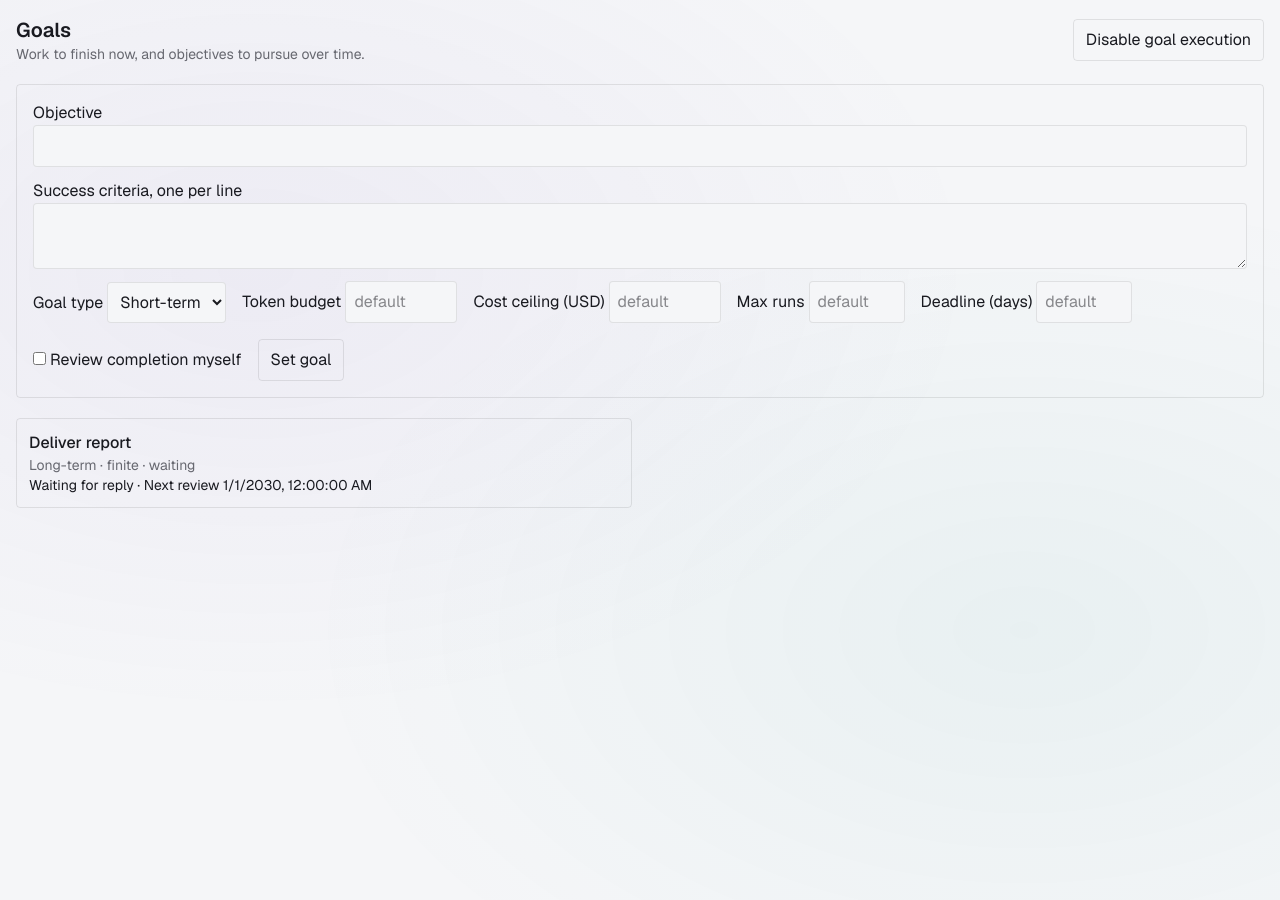
Scenario: GoalsView › surfaces stale update errors instead of claiming success
Click the button "Deliver report".
click(80, 442)  # box [16,418,632,508]
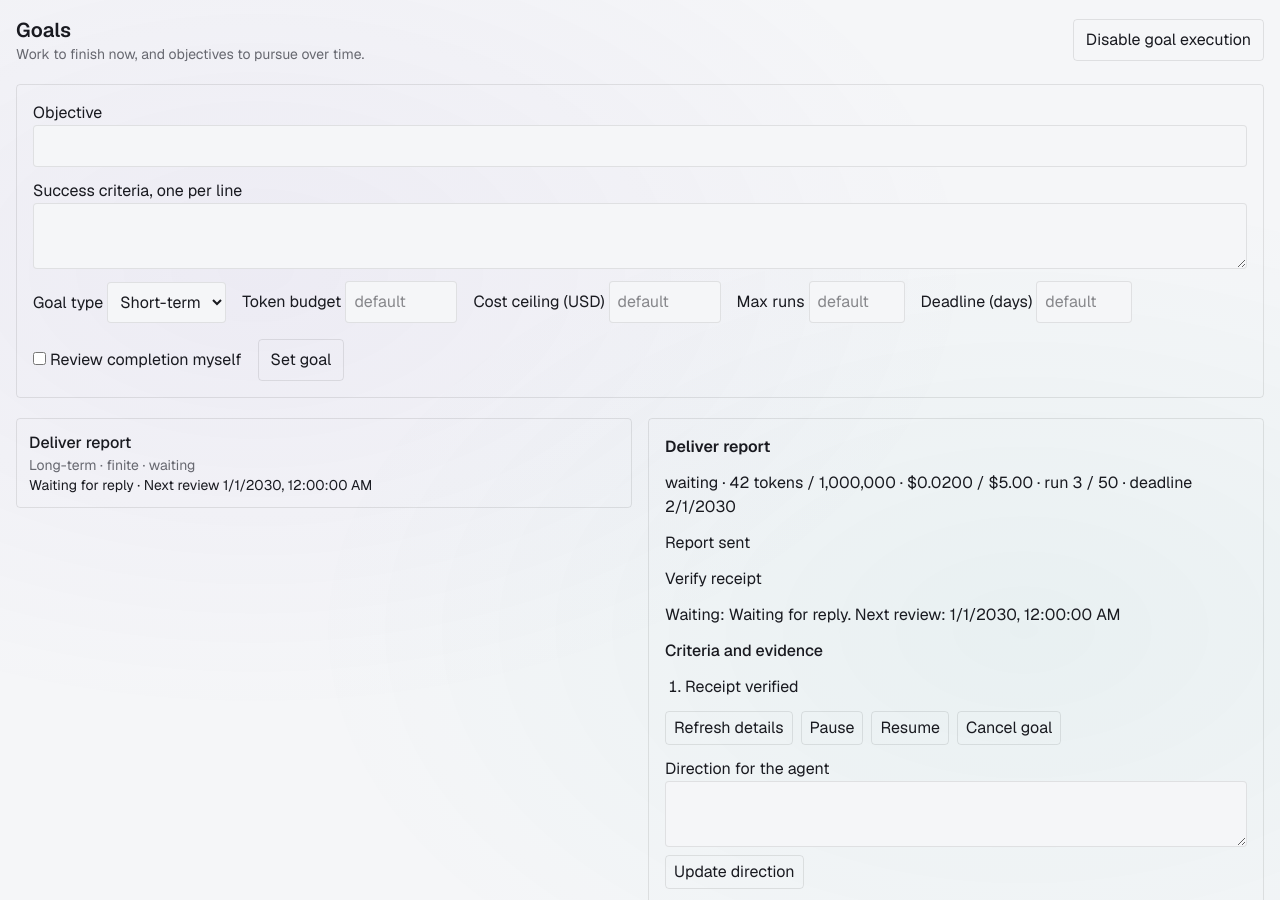
Click the button "Pause".
click(832, 728)  # box [800,711,863,745]
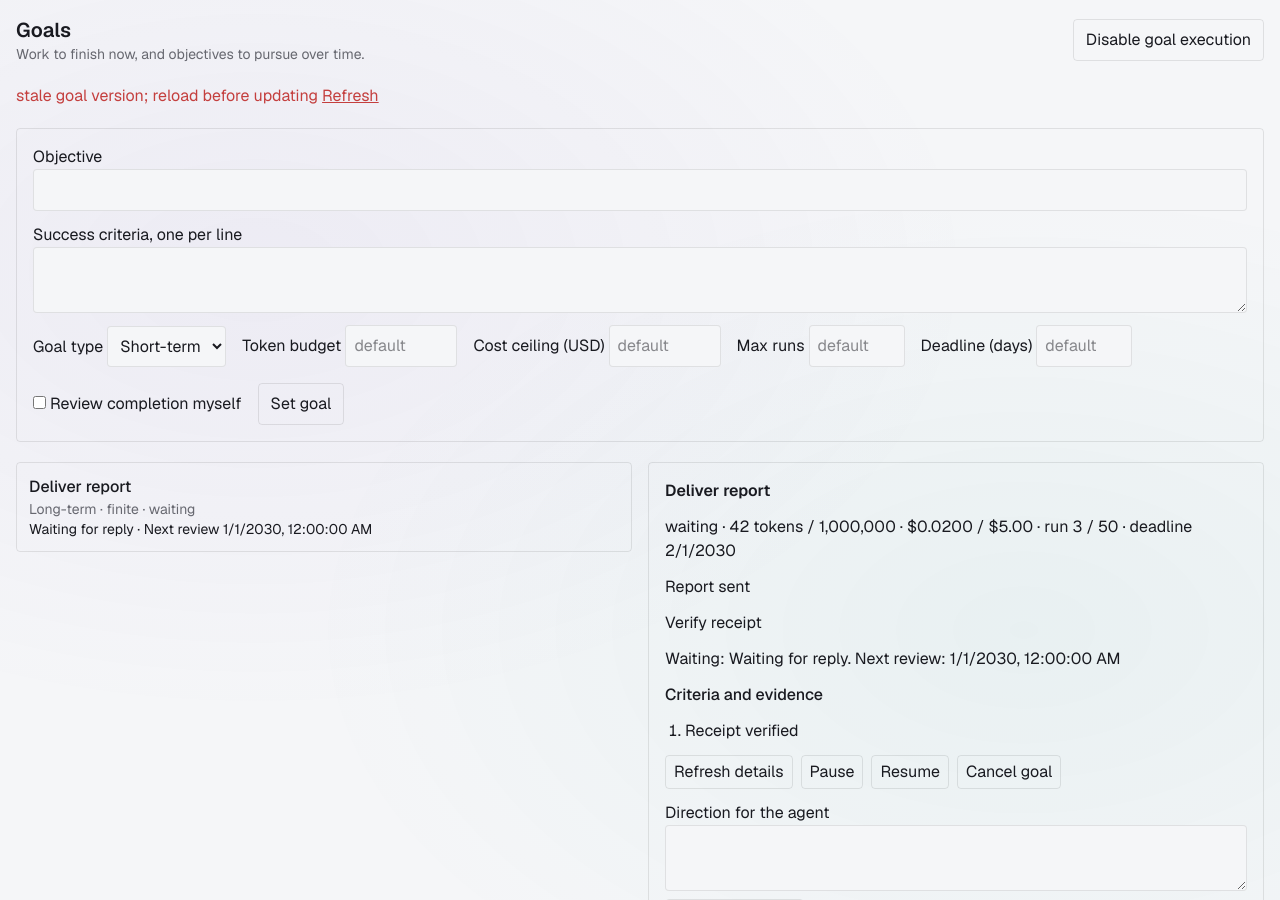
Check: the message shows "stale goal version", box [16,85,318,106]
